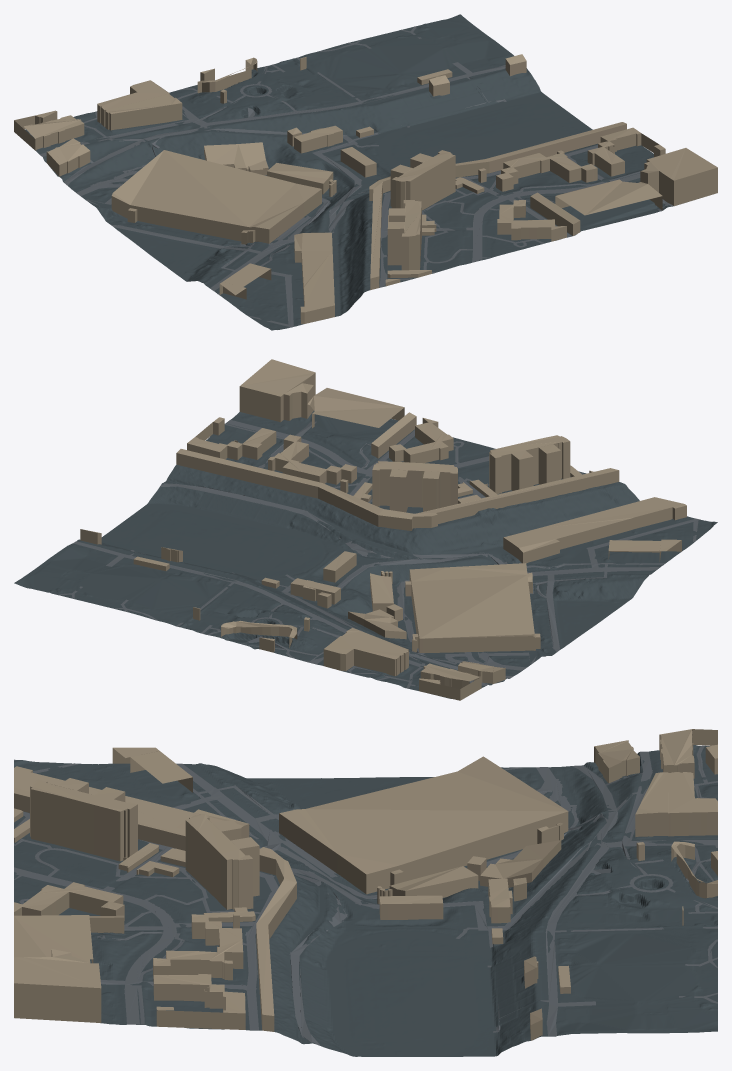
The model's file is epsg26910-1421-10873.lod0.glb.
The picture shows the model from 3 angles, top to bottom: view 1: azimuth 30°, elevation 25°; view 2: azimuth 150°, elevation 25°; view 3: azimuth 270°, elevation 25°; orthographic projection. The views are drawn at different scales.
Visible parts, largest first — view 1: epsg26910-1421-10873-lod0; view 2: epsg26910-1421-10873-lod0; view 3: epsg26910-1421-10873-lod0.
Boxes of the visible parts, <box> form: epsg26910-1421-10873-lod0: <box>14,14,717,330</box>; epsg26910-1421-10873-lod0: <box>14,359,717,700</box>; epsg26910-1421-10873-lod0: <box>14,729,717,1056</box>.
Bounding box in the file's own units: 384 × 56.07 × 384.
